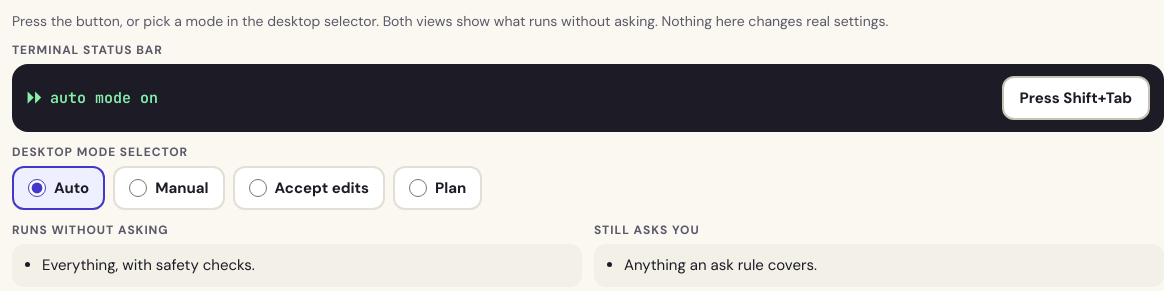
Test: ModesDemo › one press goes to manual, four return to auto, in F4 order
Click the button "Press Shift+Tab". click: (1076, 98)
box: [1002, 76, 1150, 120]
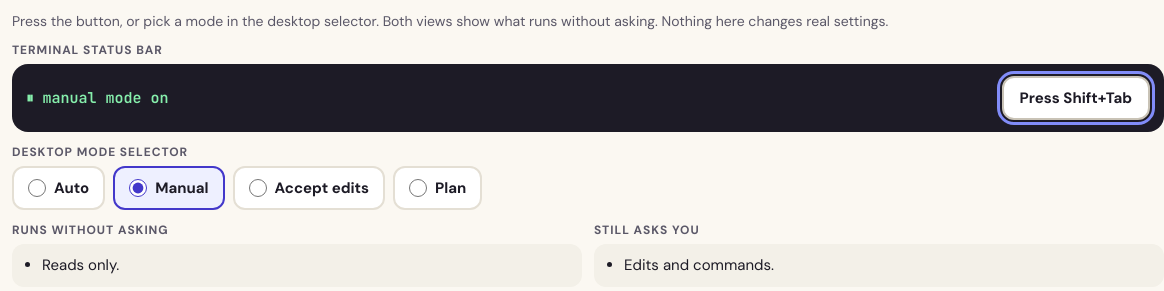
Click the button "Press Shift+Tab". click: (1076, 98)
box: [1002, 76, 1150, 120]
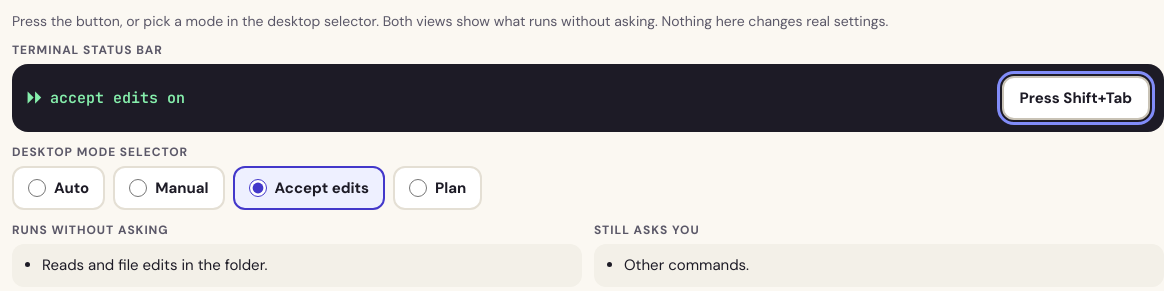
Click the button "Press Shift+Tab". click: (1076, 98)
box: [1002, 76, 1150, 120]
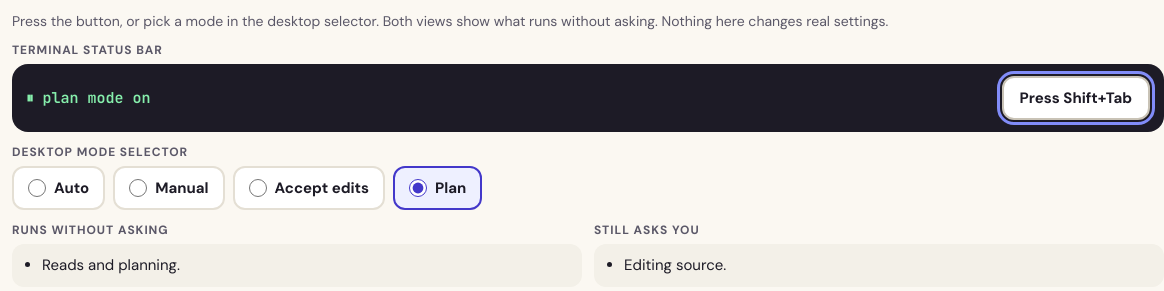
Click the button "Press Shift+Tab". click: (1076, 98)
box: [1002, 76, 1150, 120]
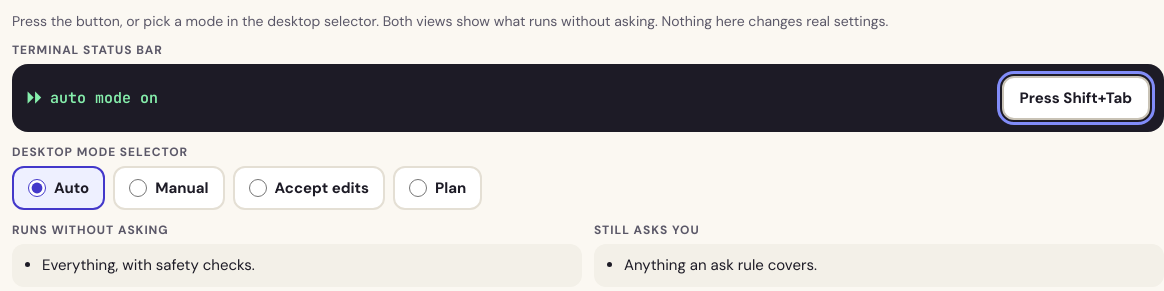
Check: the text with test id "status-bar" reads "⏵⏵ auto mode on", box [26, 88, 158, 108]
